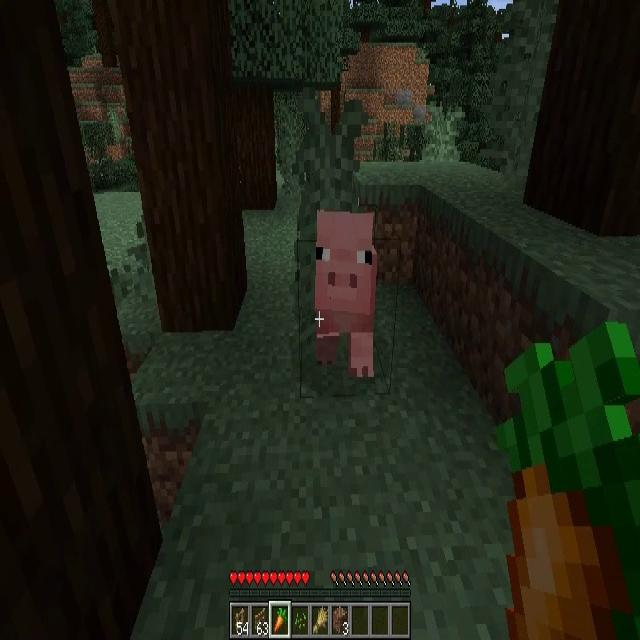pig: (314, 208, 374, 377)
